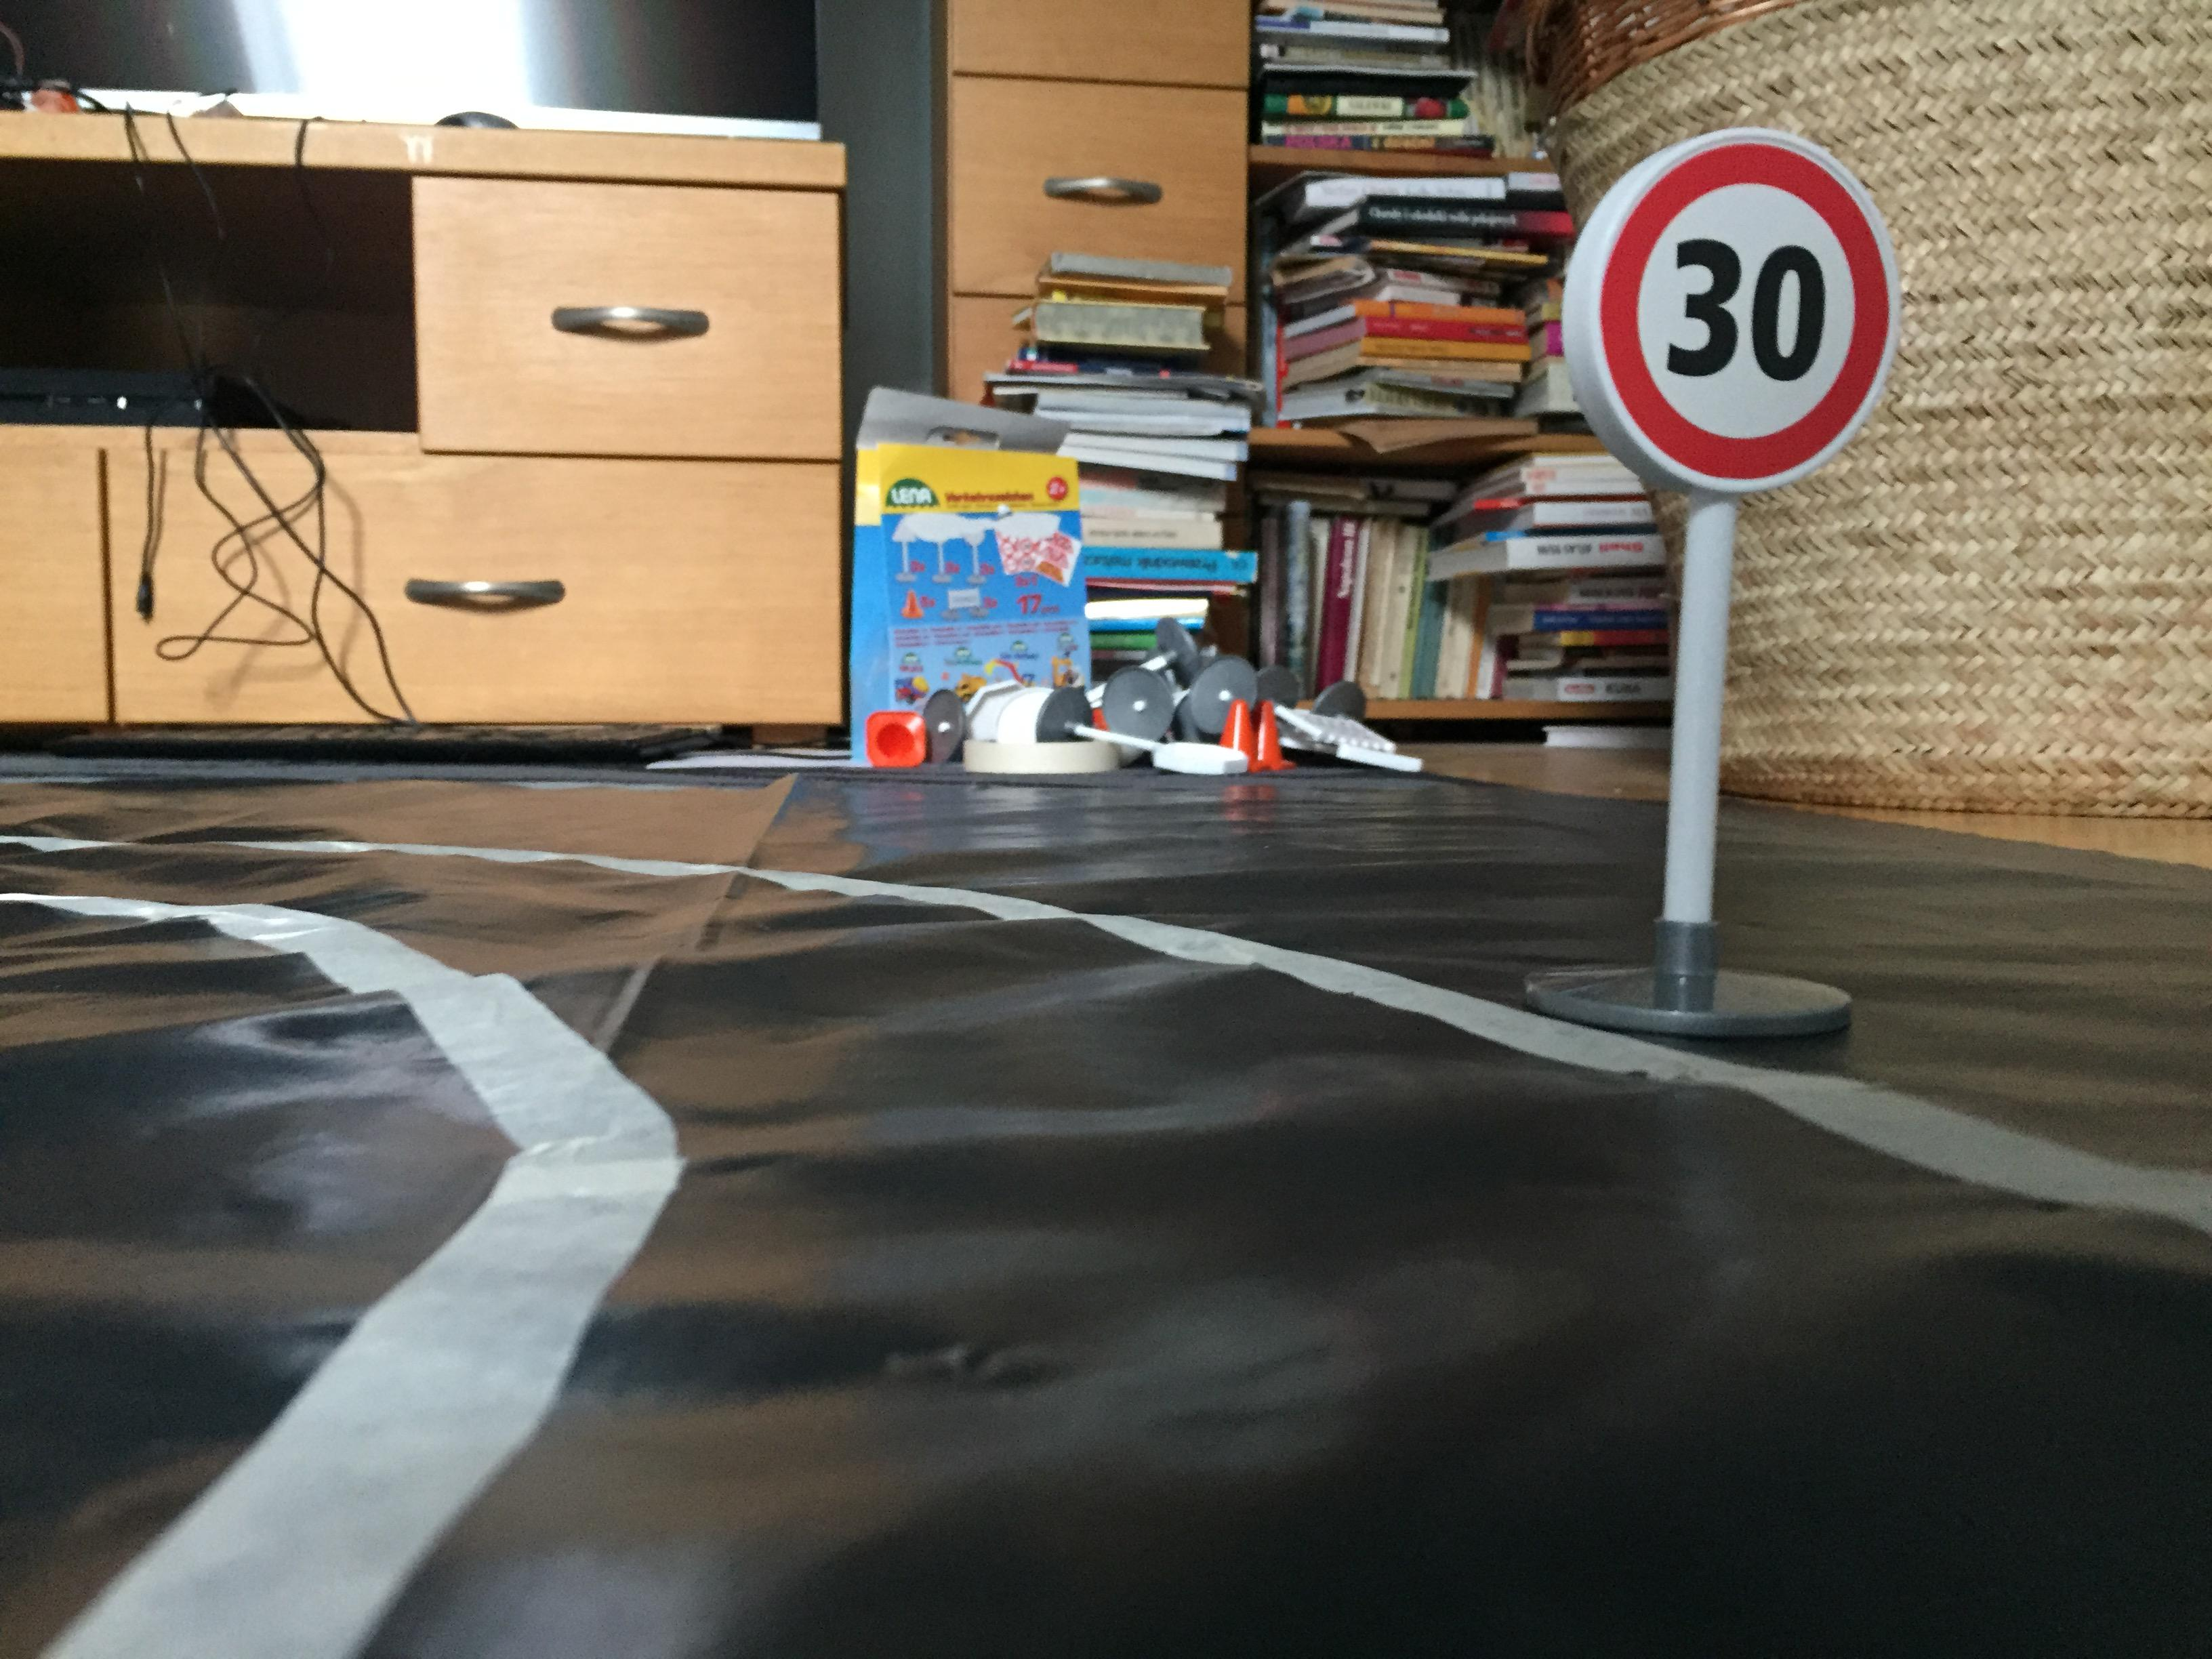speed: (1561, 115, 1928, 509)
